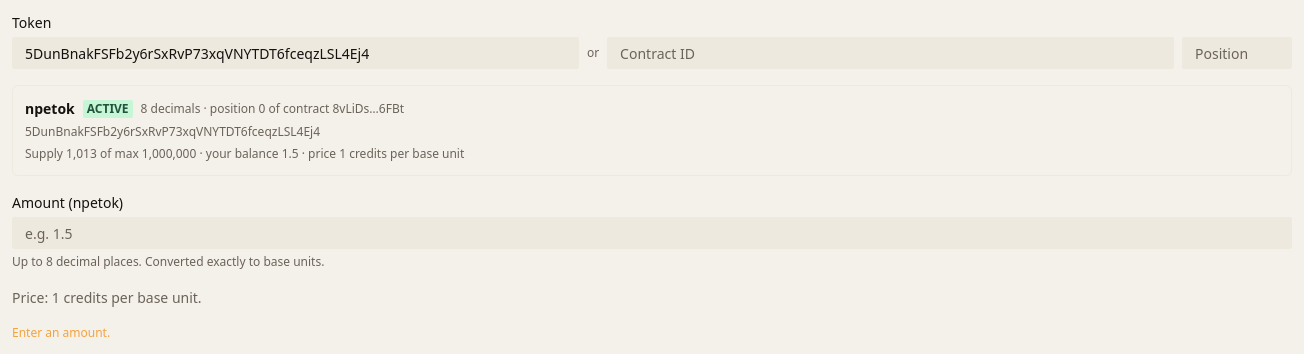
Test: TokenOperationForm › prices a direct purchase exactly at the current price
Type "2" into the field named "Amount". click: [652, 233]
box: [12, 217, 1292, 249]
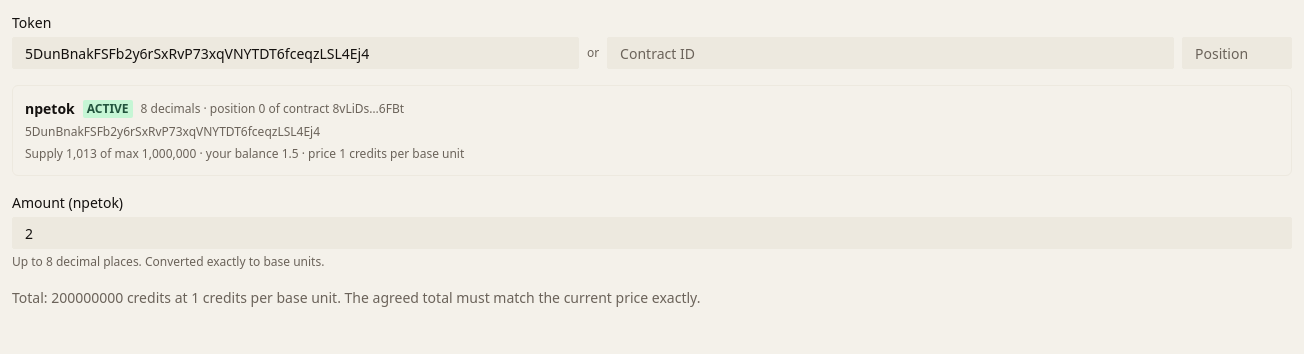
expect the text "Total: 200000000 credits at 1 credits per base unit" is shown: met, box [12, 288, 700, 307]
